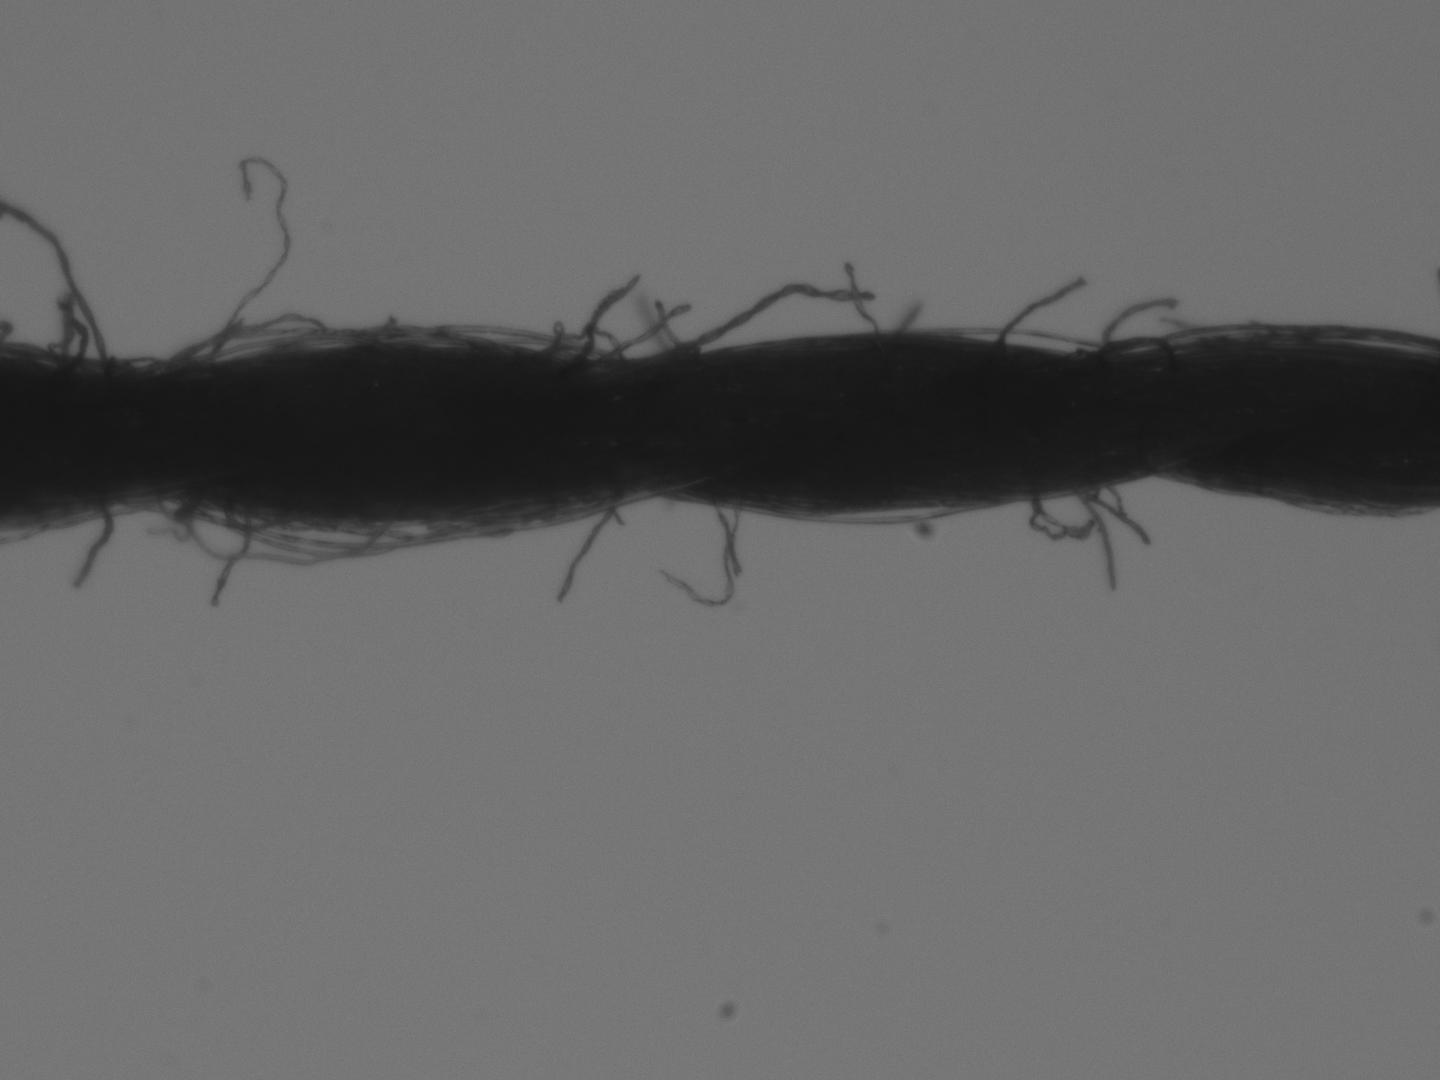loop_fiber: (162, 483, 679, 566), (167, 313, 370, 365), (190, 507, 389, 557), (766, 501, 971, 530), (296, 320, 481, 349), (935, 320, 1086, 355), (1028, 480, 1098, 534), (1091, 332, 1174, 372), (535, 324, 619, 361), (220, 506, 288, 534)
protruding_fiber: (202, 153, 289, 361), (660, 281, 872, 364), (554, 500, 622, 602), (996, 275, 1086, 347), (576, 271, 642, 361), (1085, 296, 1172, 353), (206, 508, 247, 614), (1083, 483, 1119, 587), (70, 508, 112, 589)
